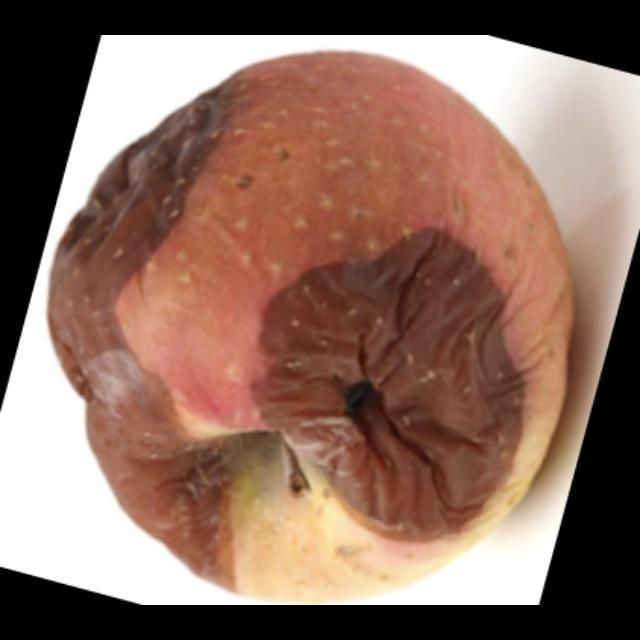Apel Tidak Segar: (39, 43, 583, 604)
